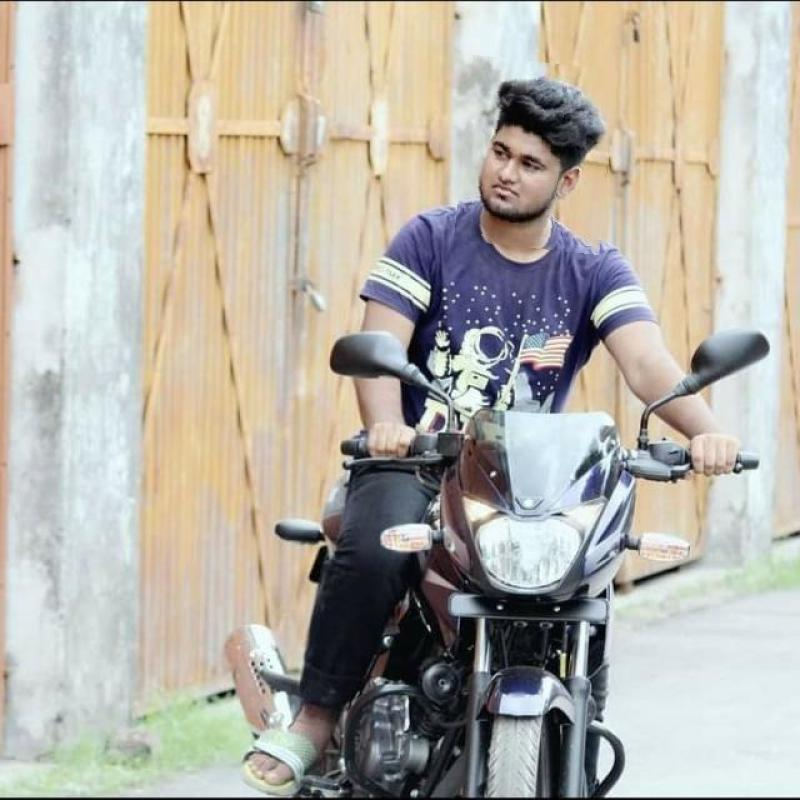nohelmet: (458, 59, 614, 252)
